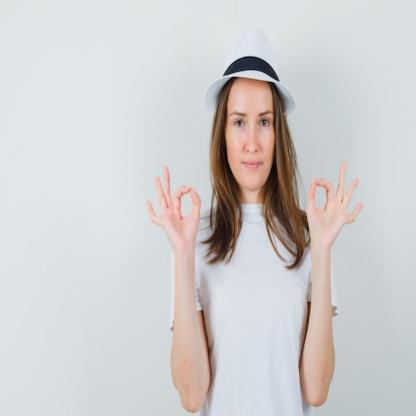ok: (304, 156, 366, 258), (144, 162, 204, 261)
